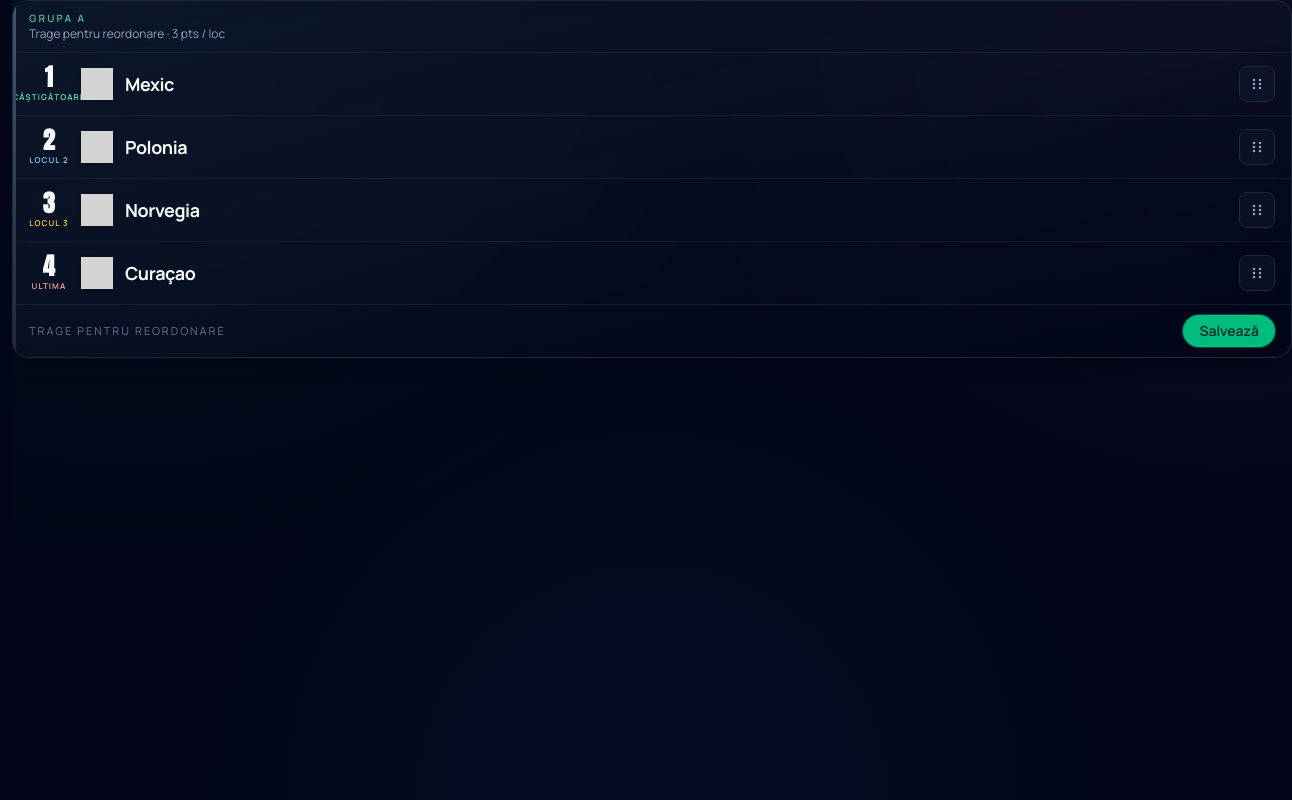
Scenario: GroupStandingsForm › locks the button to 'Salvat ✓' after saving the default order
The image size is (1292, 800).
Click the button "Salvează". click: (1229, 331)
box: [1183, 315, 1275, 347]
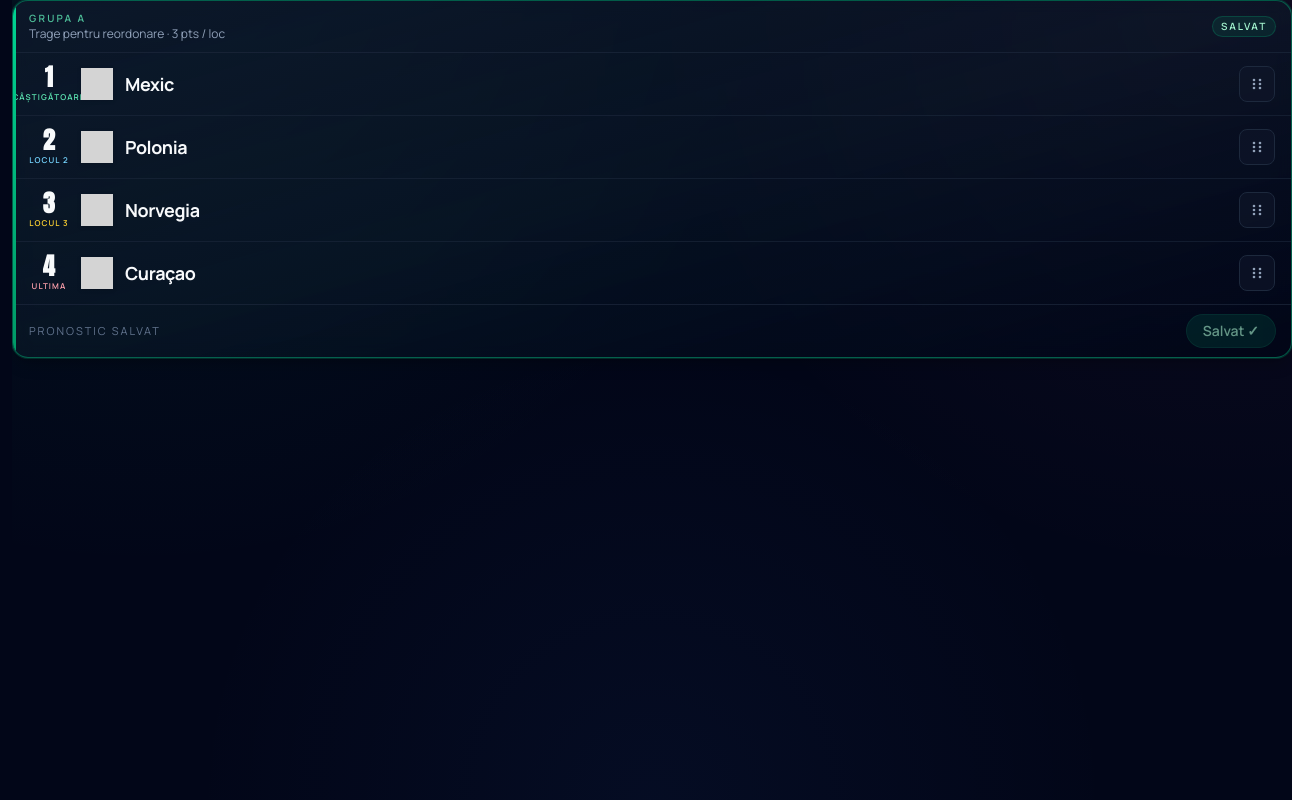
Expected: the button "Salvat ✓" is disabled, [1187, 315, 1275, 347]
